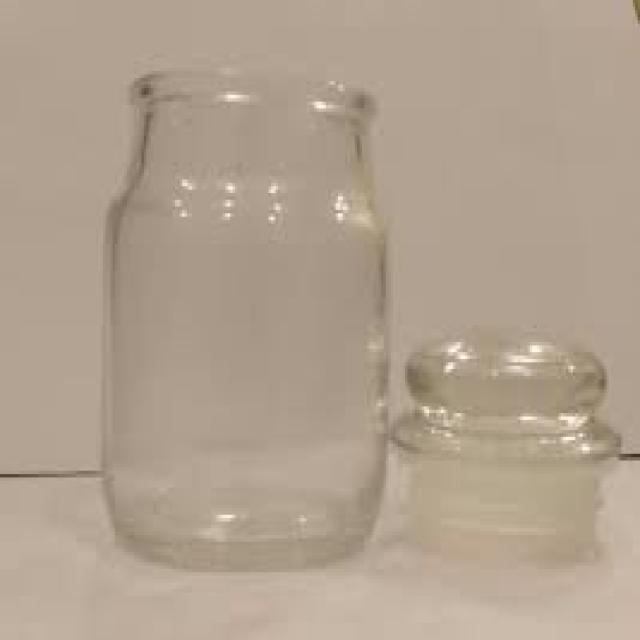glass: (98, 68, 386, 562), (398, 332, 616, 565)
